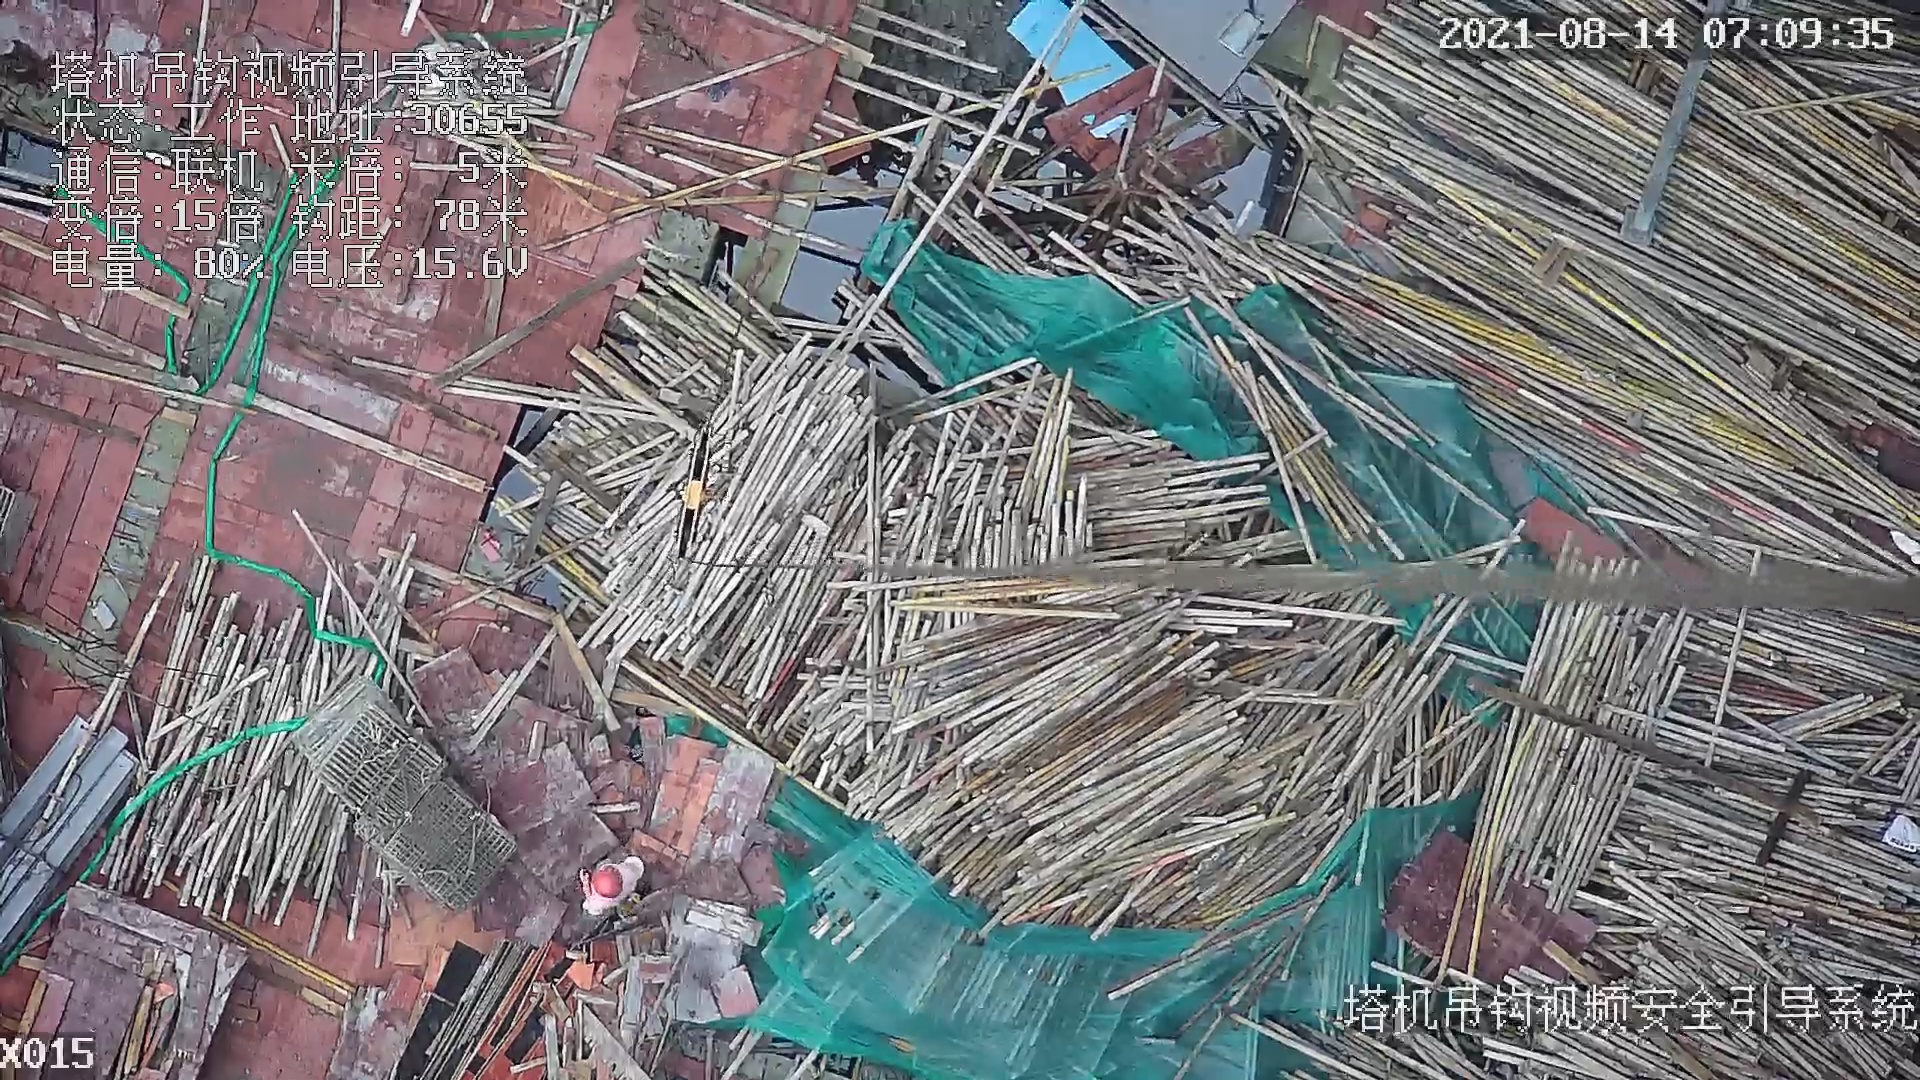helmet: (593, 867, 624, 897)
hook: (673, 427, 719, 572)
person: (578, 853, 654, 918)
